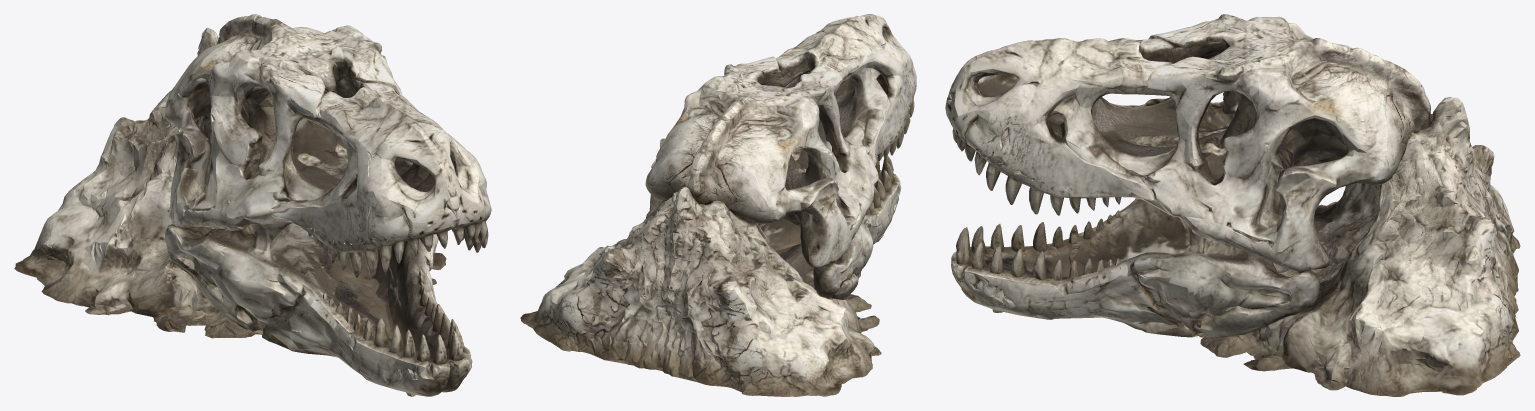
The model's file is sv_skull.glb.
The picture shows the model from 3 angles, left to right: view 1: azimuth 30°, elevation 25°; view 2: azimuth 150°, elevation 25°; view 3: azimuth 270°, elevation 25°; orthographic projection. The views are drawn at different scales.
Size of the model in its own units: 1.51 by 0.9602 by 1.9.
Materials: 1 (1 with a texture image).
